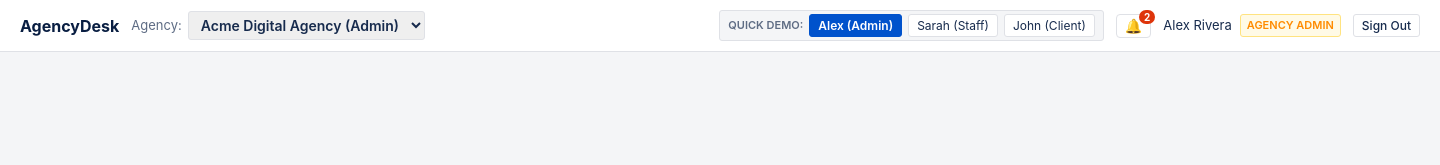
Scenario: Notifications and Header Actions Frontend Components › renders notification bell with unread badge and opens popover
The width and height of the screenshot is (1440, 165).
Check: the text "2" is shown, box [1139,10,1155,24]
// Click bell icon
Click the button named "View notifications" at coordinates (1134, 26), box [1116,14,1151,38]
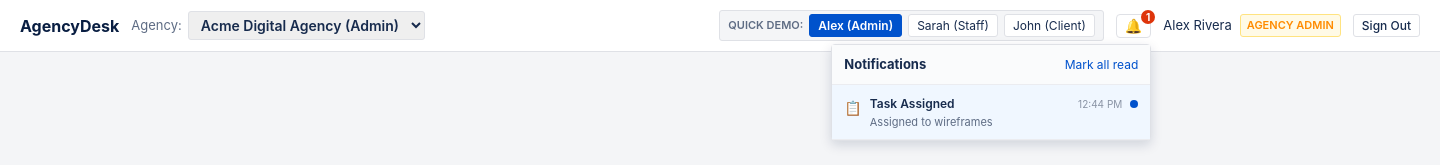
Check: the element with test id "notification-dropdown" is shown, box [831,44,1151,141]
Check: the text "Task Assigned" is shown, box [870,95,955,113]
Check: the text "Assigned to wireframes" is shown, box [870,115,993,129]
